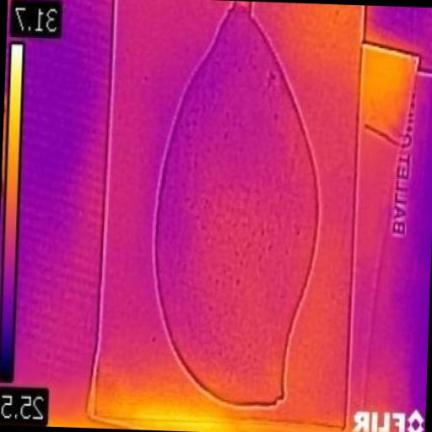mango: (156, 1, 318, 405)
